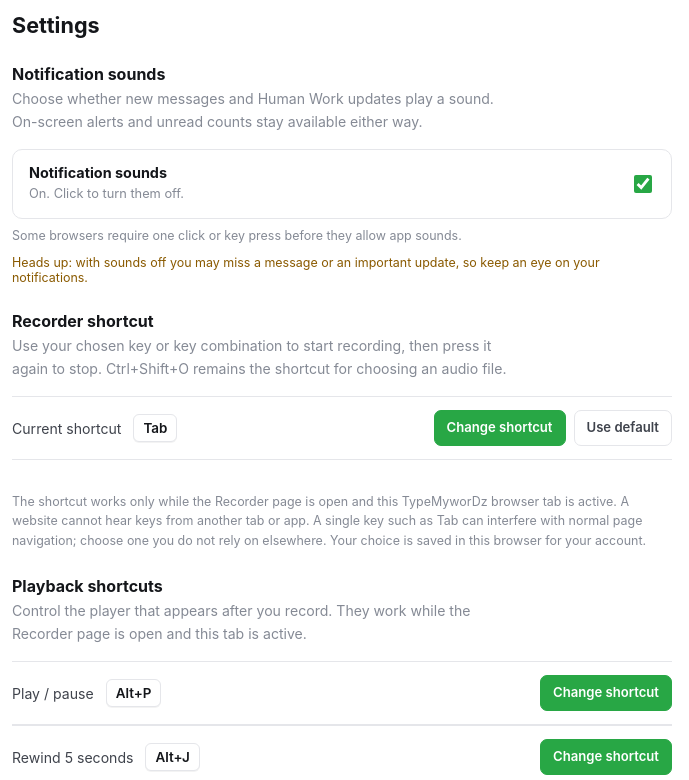
restores the existing Ctrl+R default
Expected: the text "Tab" is shown, [134,414,178,442]
Step 1. Click the button "Use default" → (623, 428), box [574,410,672,446]
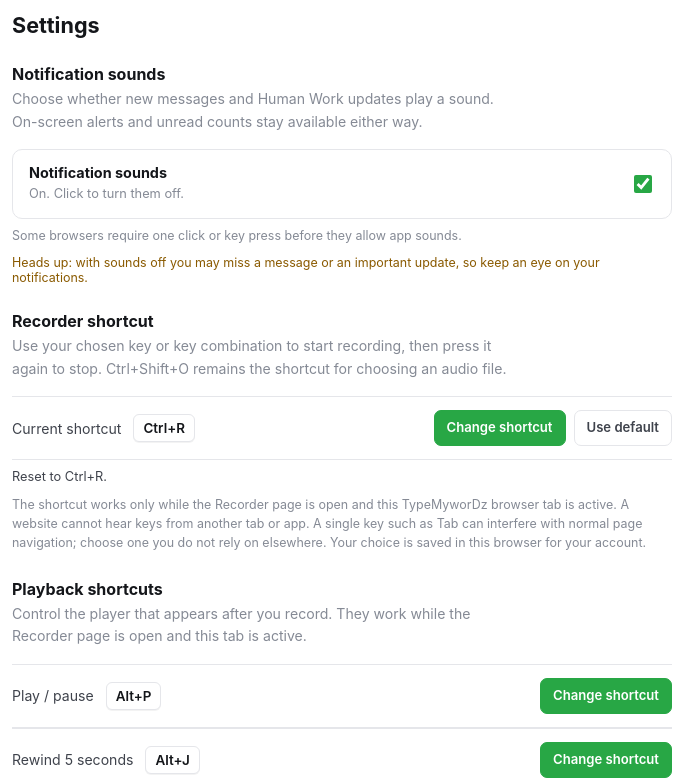
Result: the text "Ctrl+R" is shown at [134,414,195,442]
